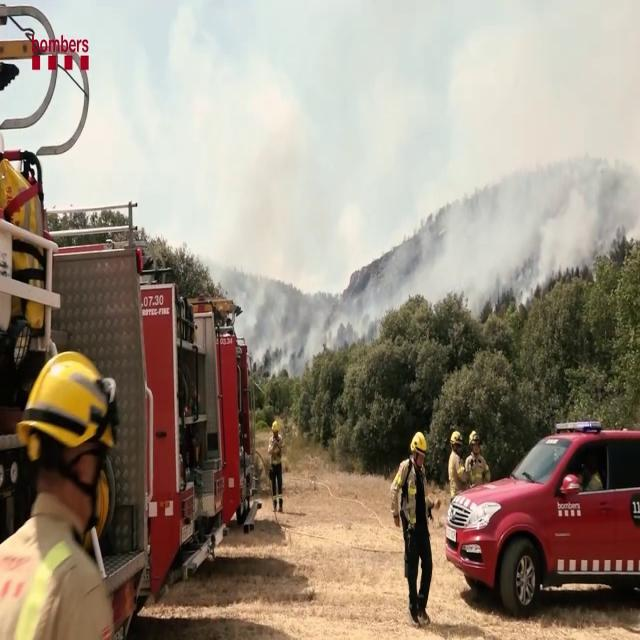Smoke: (409, 34, 640, 314), (242, 234, 366, 380)
